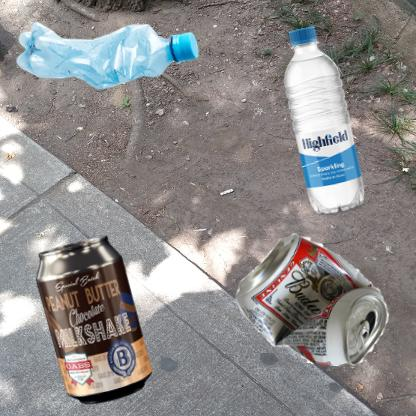botella: (213, 10, 416, 243), (10, 10, 209, 97)
lata: (10, 213, 194, 416), (213, 213, 416, 378)
